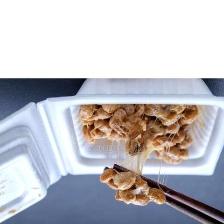foam_box: (0, 78, 224, 224)
